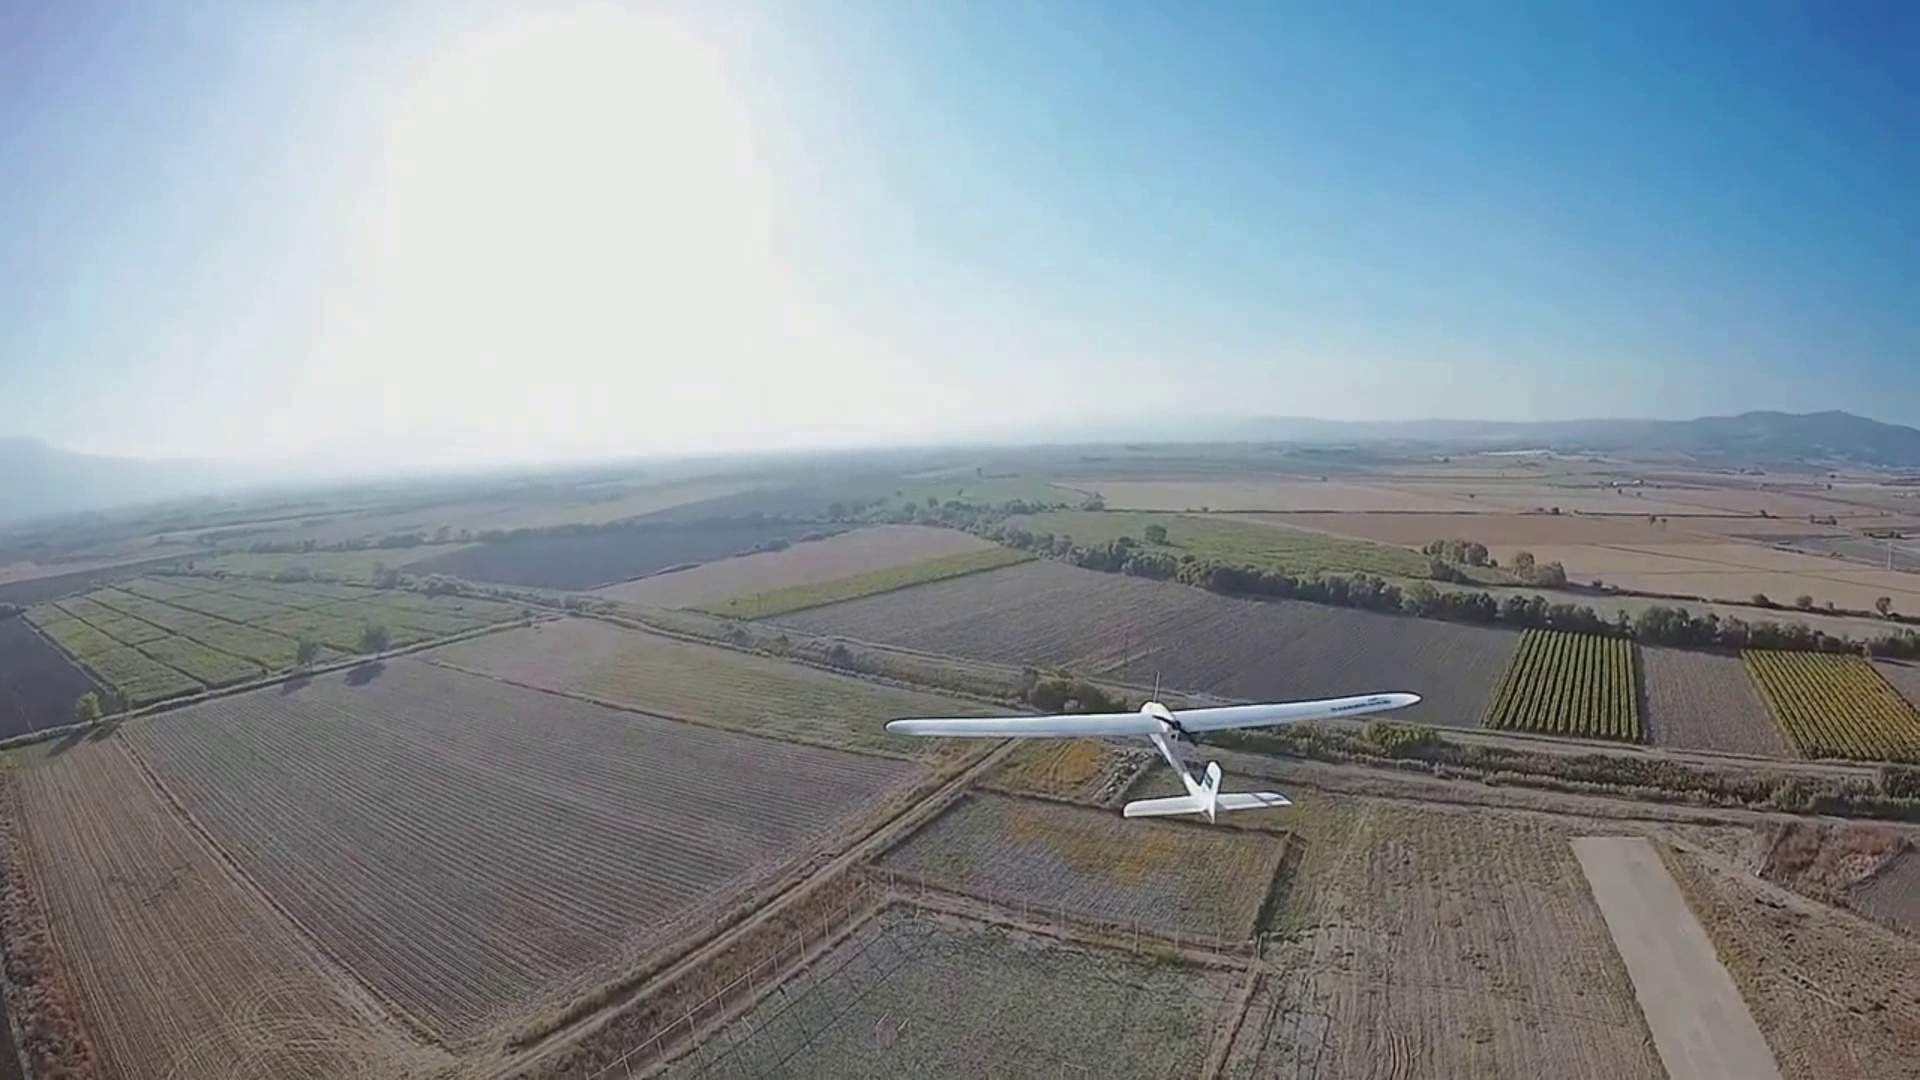airplane: (881, 684, 1420, 819)
